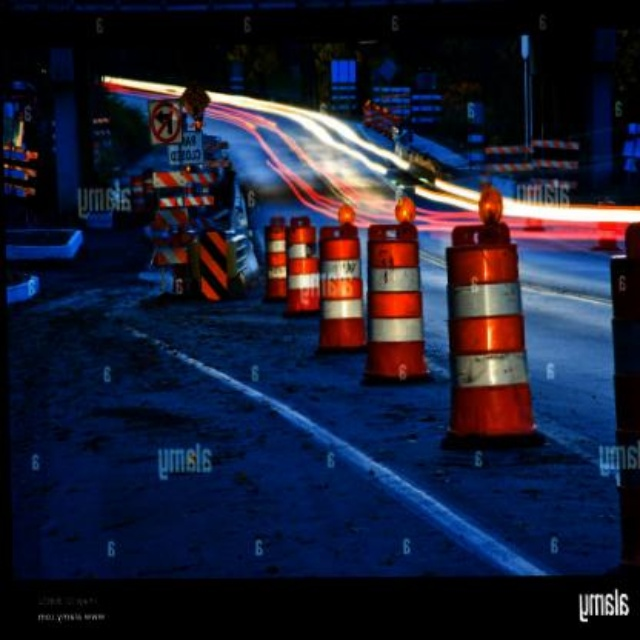obstacle: (429, 236, 539, 451), (352, 226, 425, 390), (308, 220, 364, 361), (279, 221, 315, 321)
